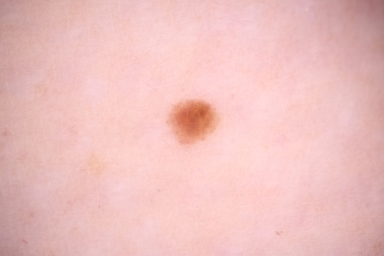nevus: (163, 100, 221, 149)
